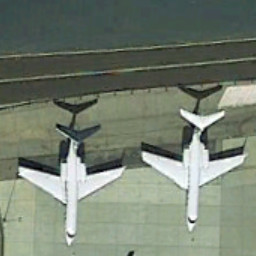Airplane: (136, 98, 252, 243), (15, 117, 130, 255)
